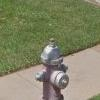Hydrant: (29, 30, 72, 100)
